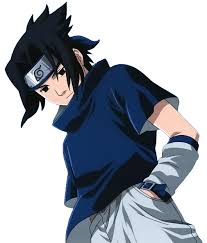sasuke: (22, 45, 88, 107)
